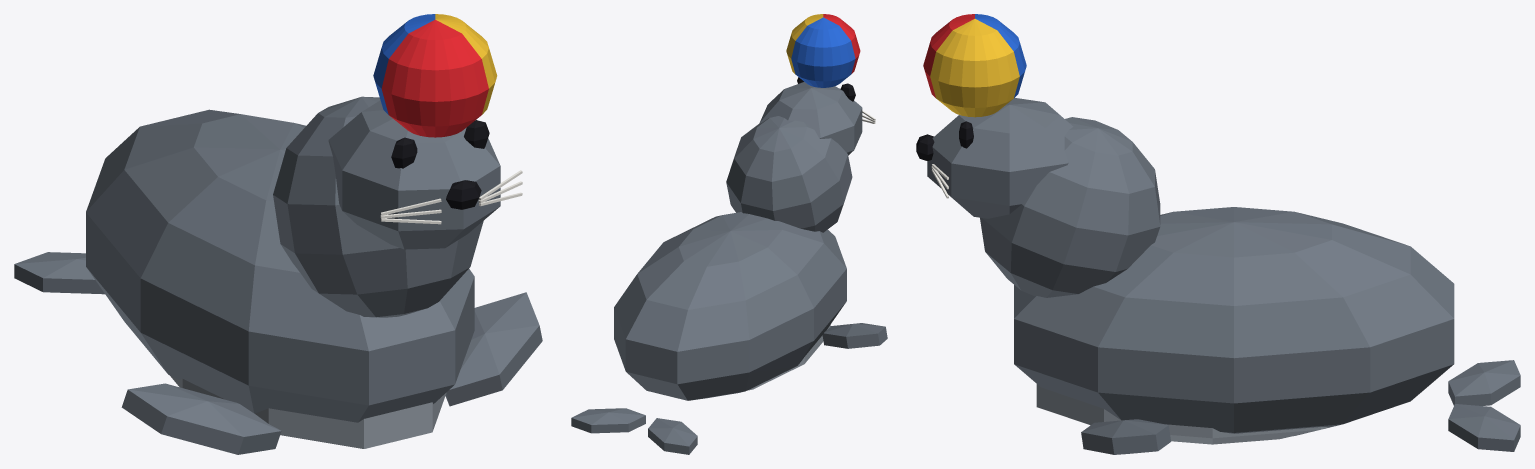
Rendered from seal.glb.
3 views of the same model, side by side, from view 1: azimuth 30°, elevation 25°; view 2: azimuth 150°, elevation 25°; view 3: azimuth 270°, elevation 25° (orthographic). The views are drawn at different scales.
Parts seen in each view (by area): view 1: body_seal_grey, ball_ball_red, body_seal_belly, face_black, face_white, ball_ball_blue, ball_ball_yellow; view 2: body_seal_grey, ball_ball_blue, ball_ball_yellow, ball_ball_red; view 3: body_seal_grey, ball_ball_yellow, body_seal_belly, ball_ball_red, ball_ball_blue, face_black.
Boxes of the visible parts, x1,y1,x2,y2 form: body_seal_grey: [14, 96, 542, 454]; ball_ball_red: [381, 19, 488, 137]; body_seal_belly: [170, 375, 446, 448]; face_black: [391, 120, 489, 209]; face_white: [380, 170, 522, 224]; ball_ball_blue: [373, 14, 435, 114]; ball_ball_yellow: [435, 14, 497, 114]; body_seal_grey: [571, 82, 887, 454]; ball_ball_blue: [791, 17, 855, 87]; ball_ball_yellow: [786, 14, 823, 74]; ball_ball_red: [823, 14, 860, 73]; body_seal_grey: [927, 98, 1520, 454]; ball_ball_yellow: [930, 19, 1019, 117]; body_seal_belly: [1036, 384, 1328, 444]; ball_ball_red: [923, 14, 974, 97]; ball_ball_blue: [975, 14, 1026, 97]; face_black: [916, 121, 973, 160].
Size of the model in its own units: 0.9118 by 1.04 by 1.4.
